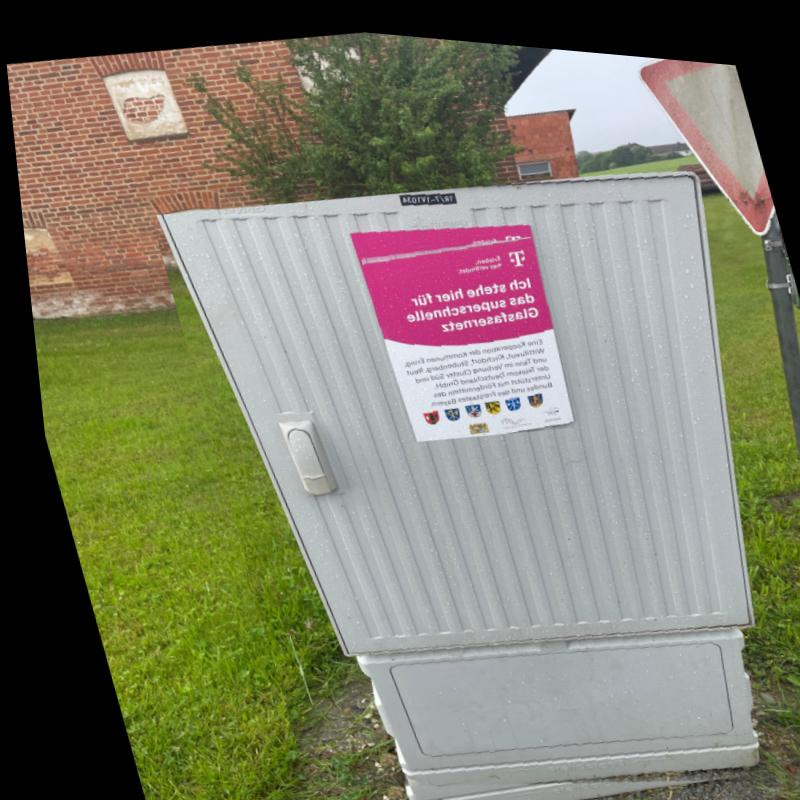NT-Gehause: (147, 156, 769, 788)
Steaker: (352, 215, 578, 448)
